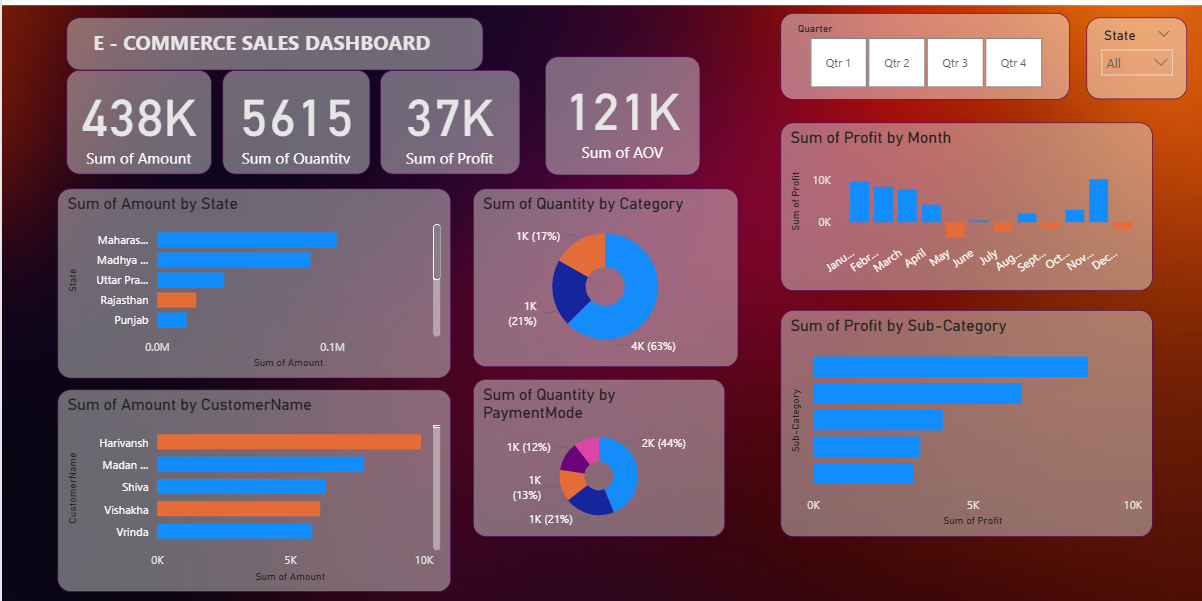

The dashboard page shown, as its layout file describes it:
{"tool":"powerbi","page":{"name":"Page 1","canvas":[1280,720],"ordinal":0},"visuals":[{"type":"columnChart","fields":{"Category":["Orders.Order Date.Variation.Date Hierarchy.Month"],"Y":["Details.Profit"]},"box":[825.7,160.8,394.6,178.4],"z":1000},{"type":"clusteredBarChart","fields":{"Category":["Details.Sub-Category"],"Y":["Details.Profit"]},"box":[825.7,359.5,394.6,240.5],"z":2000},{"type":"donutChart","fields":{"Category":["Details.Category"],"Y":["Details.Quantity"]},"box":[500,231.1,281.1,189.2],"z":3000},{"type":"donutChart","fields":{"Y":["Details.Quantity"],"Category":["Details.PaymentMode"]},"box":[500,432.4,267.6,167.6],"z":4000},{"type":"card","fields":{"Values":["Details.Amount"]},"box":[68.9,105.4,154.1,110.8],"z":5000},{"type":"card","fields":{"Values":["Details.Quantity"]},"box":[233.8,105.4,156.8,110.8],"z":6000},{"type":"card","fields":{"Values":["Details.Profit"]},"box":[401.4,105.4,148.6,110.8],"z":7000},{"type":"card","fields":{"Values":["Details.AOV"]},"box":[575.7,90.5,164.9,125.7],"z":8000},{"type":"barChart","fields":{"Category":["Orders.State"],"Y":["Details.Amount"]},"box":[59.5,231.1,417.6,201.4],"z":9000},{"type":"barChart","fields":{"Category":["Orders.CustomerName"],"Y":["Details.Amount"]},"box":[59.5,443.2,417.6,214.9],"z":10000},{"type":"textbox","box":[68.9,50,506.8,43.2],"z":10001},{"type":"slicer","fields":{"Values":["Orders.Order Date.Variation.Date Hierarchy.Quarter"]},"box":[825.7,44.6,306.8,91.9],"z":10002},{"type":"slicer","fields":{"Values":["Orders.State"]},"box":[1150,50,106.8,86.5],"z":10003}]}

Visuals, with their boxes on the page's 1280x720 design canvas (x1, y1, x2, y2). These are canvas units, not pixel positions in the 1202x601 screenshot, which may show the page scaled, cropped or inside an application window:
columnChart - Orders.Order Date.Variation.Date Hierarchy.Month x Details.Profit: region(826, 161, 1220, 339)
clusteredBarChart - Details.Sub-Category x Details.Profit: region(826, 360, 1220, 600)
donutChart - Details.Category x Details.Quantity: region(500, 231, 781, 420)
donutChart - Details.Quantity x Details.PaymentMode: region(500, 432, 768, 600)
card - Details.Amount: region(69, 105, 223, 216)
card - Details.Quantity: region(234, 105, 391, 216)
card - Details.Profit: region(401, 105, 550, 216)
card - Details.AOV: region(576, 90, 741, 216)
barChart - Orders.State x Details.Amount: region(60, 231, 477, 432)
barChart - Orders.CustomerName x Details.Amount: region(60, 443, 477, 658)
textbox: region(69, 50, 576, 93)
slicer - Orders.Order Date.Variation.Date Hierarchy.Quarter: region(826, 45, 1132, 136)
slicer - Orders.State: region(1150, 50, 1257, 136)
